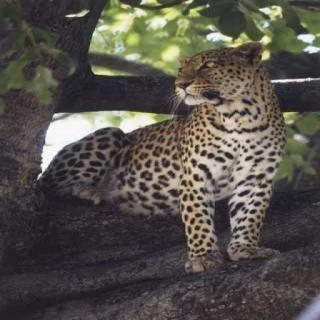Leopard: (65, 36, 276, 268)
